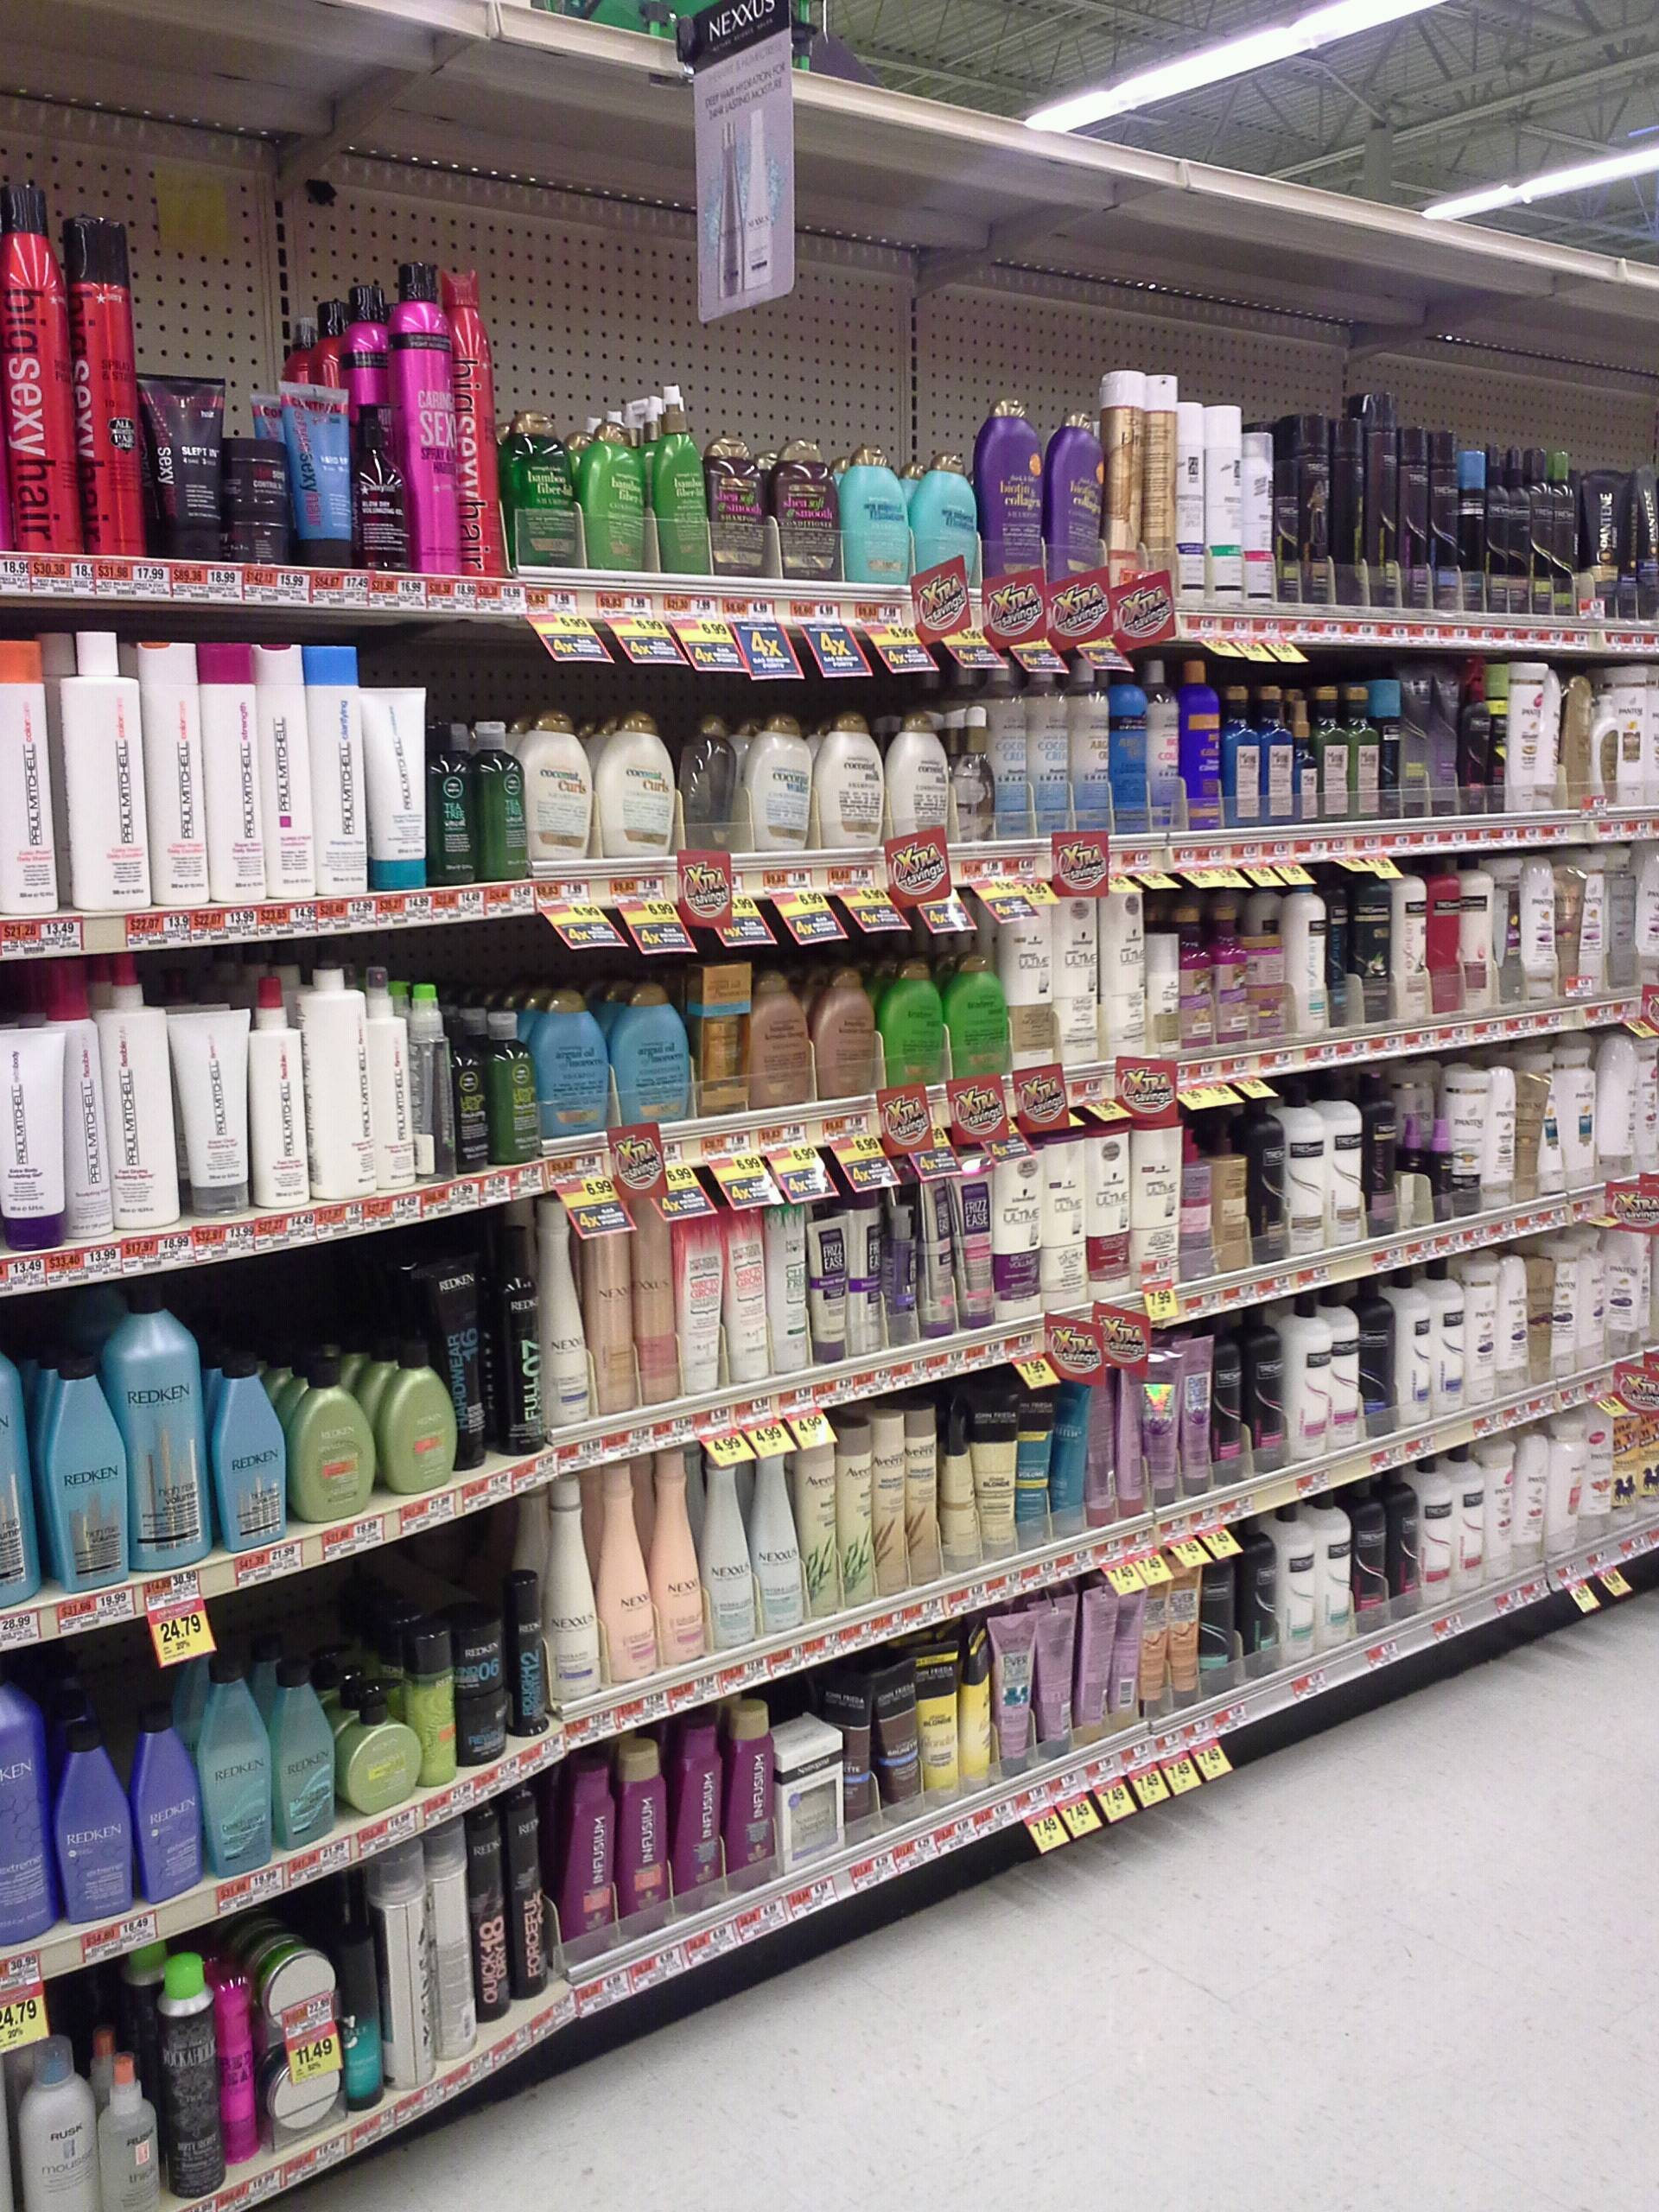product: (0, 169, 73, 557), (54, 629, 143, 914), (125, 1289, 206, 1568), (82, 207, 143, 550), (38, 1357, 124, 1587), (145, 359, 237, 564), (58, 1714, 143, 1914), (169, 1008, 249, 1219), (305, 961, 373, 1202), (155, 1963, 228, 2184), (408, 256, 457, 578), (145, 634, 204, 899), (209, 1346, 288, 1538), (0, 632, 51, 923), (115, 951, 167, 1231), (214, 1651, 277, 1879), (0, 1022, 63, 1251), (362, 685, 427, 888), (23, 2034, 96, 2212), (206, 643, 256, 897), (261, 637, 310, 900), (312, 637, 361, 897), (5, 1663, 51, 1942), (462, 272, 504, 573), (979, 402, 1042, 603), (592, 1463, 648, 1684), (575, 413, 650, 575), (371, 1345, 448, 1498), (556, 1761, 619, 1947), (251, 975, 300, 1212), (509, 401, 573, 578), (647, 1451, 699, 1665), (1046, 402, 1101, 601), (699, 1449, 753, 1653), (335, 1907, 389, 2109), (145, 1703, 200, 1897), (296, 383, 355, 564), (70, 961, 108, 1240), (410, 972, 460, 1179), (526, 707, 591, 869), (657, 388, 709, 587), (601, 707, 667, 860), (282, 1662, 336, 1848), (540, 1197, 584, 1423), (746, 718, 814, 860), (293, 1366, 357, 1515), (667, 1724, 723, 1897), (781, 1726, 842, 1881), (678, 711, 741, 859), (545, 989, 603, 1148), (753, 1444, 800, 1635), (725, 1698, 774, 1883), (1290, 408, 1333, 613), (774, 446, 835, 590), (943, 954, 1012, 1080), (915, 451, 978, 590), (622, 989, 685, 1127), (620, 1740, 667, 1923), (429, 721, 477, 897), (497, 1231, 535, 1454), (551, 1484, 591, 1696), (889, 707, 946, 853), (636, 1184, 674, 1402), (349, 1693, 416, 1815), (765, 1195, 812, 1371), (413, 1630, 464, 1794), (1284, 1294, 1335, 1458), (448, 1261, 488, 1467), (697, 961, 749, 1118), (486, 1014, 542, 1160), (390, 1851, 425, 2083), (1134, 1118, 1180, 1296), (849, 446, 904, 589), (105, 2050, 153, 2212), (467, 1817, 505, 2022), (676, 1207, 720, 1386), (884, 1663, 929, 1836), (1148, 364, 1180, 611), (819, 972, 878, 1103), (1103, 362, 1134, 608), (880, 965, 939, 1094), (507, 1797, 545, 1996), (432, 1831, 465, 2059), (826, 705, 880, 845), (592, 1200, 629, 1404), (755, 974, 812, 1103), (364, 401, 408, 570), (723, 1205, 765, 1381), (1114, 665, 1155, 840), (1042, 1137, 1086, 1303), (1363, 1078, 1405, 1249), (1180, 655, 1220, 827), (713, 432, 760, 578), (511, 1578, 552, 1742), (479, 718, 521, 880), (380, 972, 411, 1188), (1103, 887, 1143, 1055), (1093, 1127, 1131, 1303), (906, 1400, 941, 1592), (1284, 1085, 1323, 1259), (1331, 409, 1364, 610), (1347, 864, 1389, 1022), (1607, 651, 1652, 798), (1053, 887, 1089, 1066), (802, 1444, 838, 1620), (1384, 1463, 1425, 1616), (1037, 1599, 1077, 1757), (1075, 655, 1110, 836), (1033, 664, 1070, 834), (1248, 427, 1281, 611), (467, 1616, 507, 1768), (240, 427, 288, 556), (1556, 1043, 1598, 1188), (838, 1423, 871, 1602), (261, 1946, 329, 2033), (1134, 1580, 1176, 1721), (812, 1217, 850, 1371), (941, 1407, 978, 1568), (1326, 1082, 1361, 1249), (995, 660, 1028, 836), (1291, 881, 1330, 1033), (1276, 1508, 1314, 1660), (1053, 1381, 1089, 1540), (1450, 1435, 1486, 1594), (1368, 392, 1394, 611), (854, 1188, 887, 1360), (1002, 1148, 1037, 1312), (1002, 1613, 1037, 1775), (1197, 1536, 1236, 1683), (917, 1183, 953, 1334), (1459, 855, 1493, 1014), (1314, 1493, 1351, 1642), (1014, 906, 1047, 1071), (1180, 1339, 1215, 1496), (1457, 1071, 1497, 1207), (979, 1407, 1014, 1562), (962, 1179, 997, 1334), (1582, 474, 1619, 620), (870, 1418, 901, 1588), (1399, 421, 1427, 611), (1213, 401, 1237, 613), (1398, 864, 1431, 1019), (1359, 1285, 1392, 1440), (1253, 1097, 1283, 1270), (1258, 681, 1295, 820), (1598, 1038, 1635, 1177), (1354, 691, 1399, 803), (1398, 1275, 1431, 1426), (268, 2054, 338, 2125), (847, 1677, 878, 1836), (1180, 1123, 1211, 1282), (1436, 421, 1462, 611), (1603, 1230, 1643, 1353), (1244, 1517, 1276, 1674), (1399, 658, 1429, 822), (934, 1642, 964, 1804), (1507, 660, 1539, 812), (1431, 1263, 1462, 1414), (1185, 406, 1208, 615), (1148, 1350, 1178, 1505), (957, 712, 993, 838), (1352, 1484, 1384, 1630), (967, 1630, 995, 1794), (1499, 1258, 1532, 1395), (1216, 1331, 1246, 1482), (1511, 1435, 1546, 1562), (1223, 685, 1255, 826), (1323, 686, 1354, 826), (1520, 857, 1549, 1003), (1115, 1366, 1145, 1512), (1182, 914, 1215, 1045), (234, 1982, 258, 2158), (1466, 1266, 1497, 1402), (1086, 1585, 1112, 1747), (1218, 1129, 1248, 1271), (1581, 1407, 1612, 1540), (1018, 1393, 1044, 1548), (1249, 935, 1290, 1036), (1462, 448, 1486, 611), (1255, 1310, 1279, 1474), (887, 1204, 915, 1346), (1525, 441, 1547, 615), (1218, 909, 1248, 1042), (1553, 448, 1575, 620), (1467, 655, 1492, 812), (458, 1028, 484, 1172), (1572, 676, 1598, 817), (1093, 1376, 1117, 1526), (1112, 1588, 1136, 1737), (1549, 1421, 1577, 1550), (1171, 1552, 1194, 1710), (1436, 671, 1460, 815), (1638, 467, 1659, 634), (1612, 852, 1636, 995), (1497, 857, 1520, 1008), (1436, 864, 1459, 1012), (1295, 697, 1321, 824), (1337, 1299, 1359, 1446), (1492, 442, 1511, 615), (1150, 934, 1178, 1049), (1499, 1069, 1521, 1211), (1553, 1245, 1575, 1383), (1525, 1068, 1547, 1198), (1581, 1237, 1603, 1367), (1560, 867, 1581, 1007), (1425, 1116, 1452, 1228), (1638, 846, 1659, 982), (1614, 1402, 1636, 1524), (1427, 1456, 1446, 1599), (1492, 1444, 1513, 1575), (1640, 1033, 1659, 1174), (1586, 857, 1605, 995), (1547, 665, 1565, 810), (1534, 1258, 1553, 1386), (1640, 1388, 1659, 1505)
